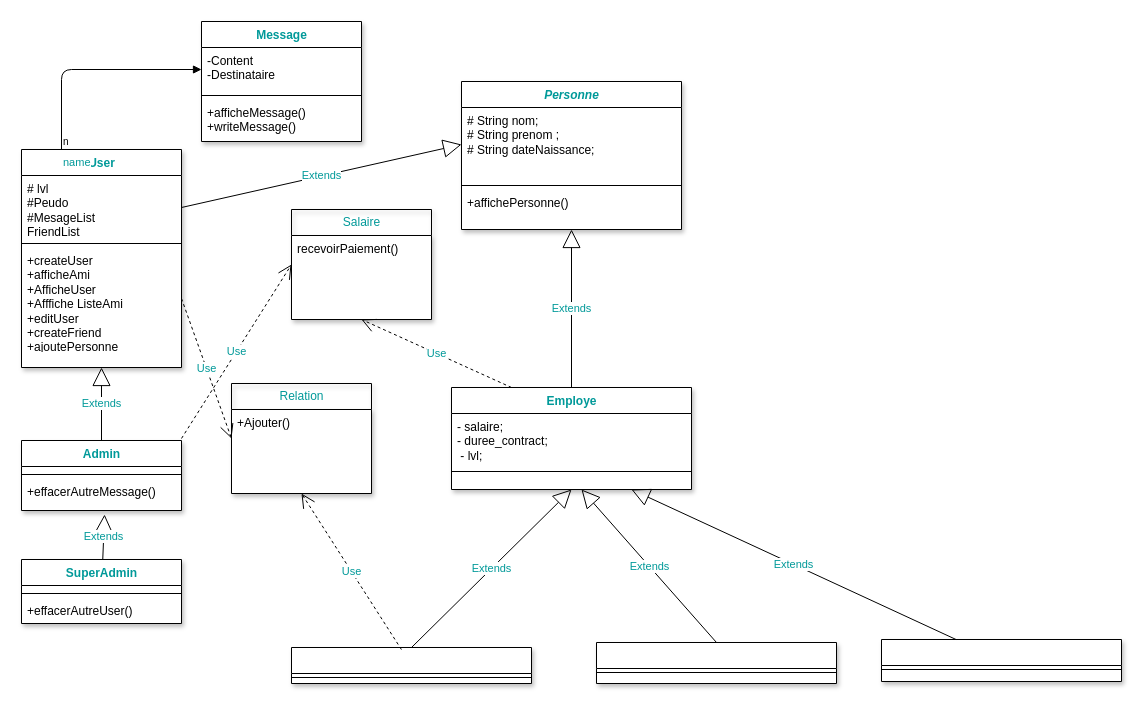
The diagram is 1145 pixels wide and 708 high, and some of its shapes have lost their labels. Here are the shapes that lost their labels. From the top down, the centre of each, then its label:
point (412, 666): Directeur
point (717, 664): Dev
point (1002, 661): Marketteur
